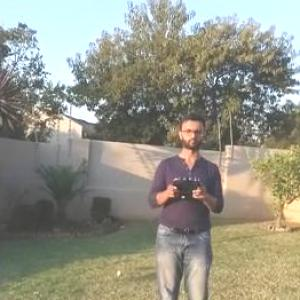follow: (141, 107, 230, 298)
